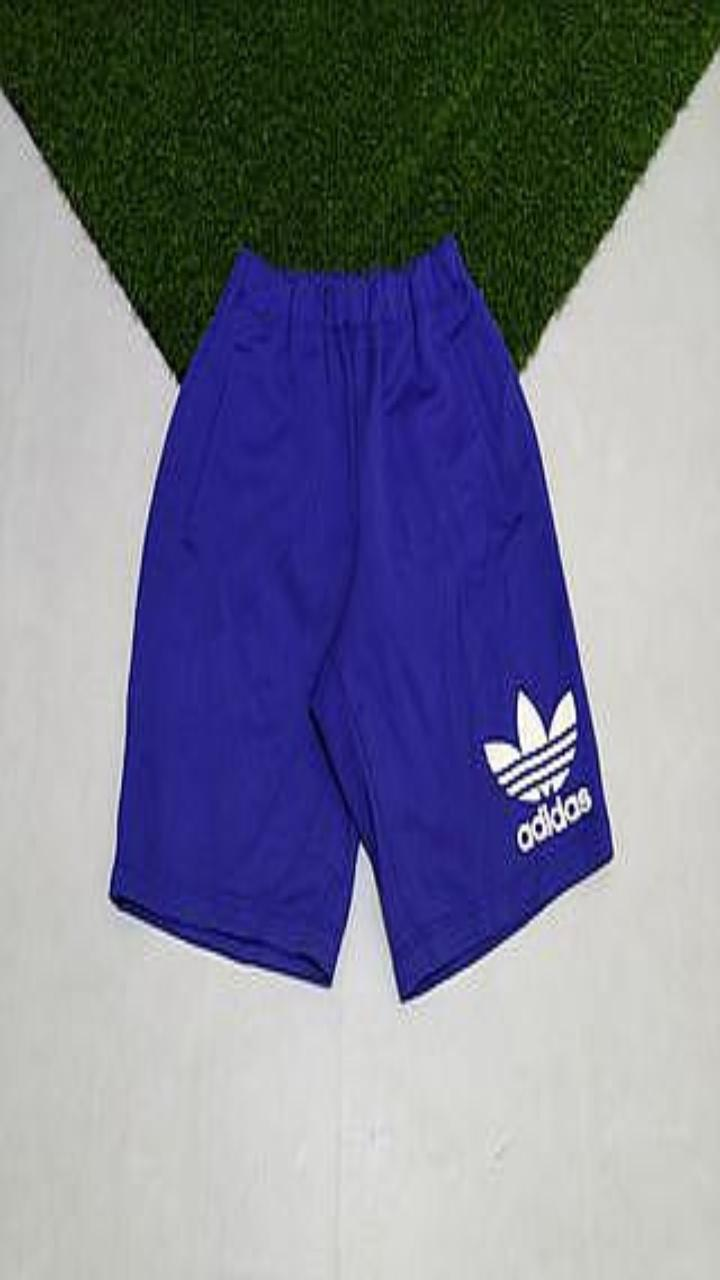Shorts: (110, 236, 611, 998)
